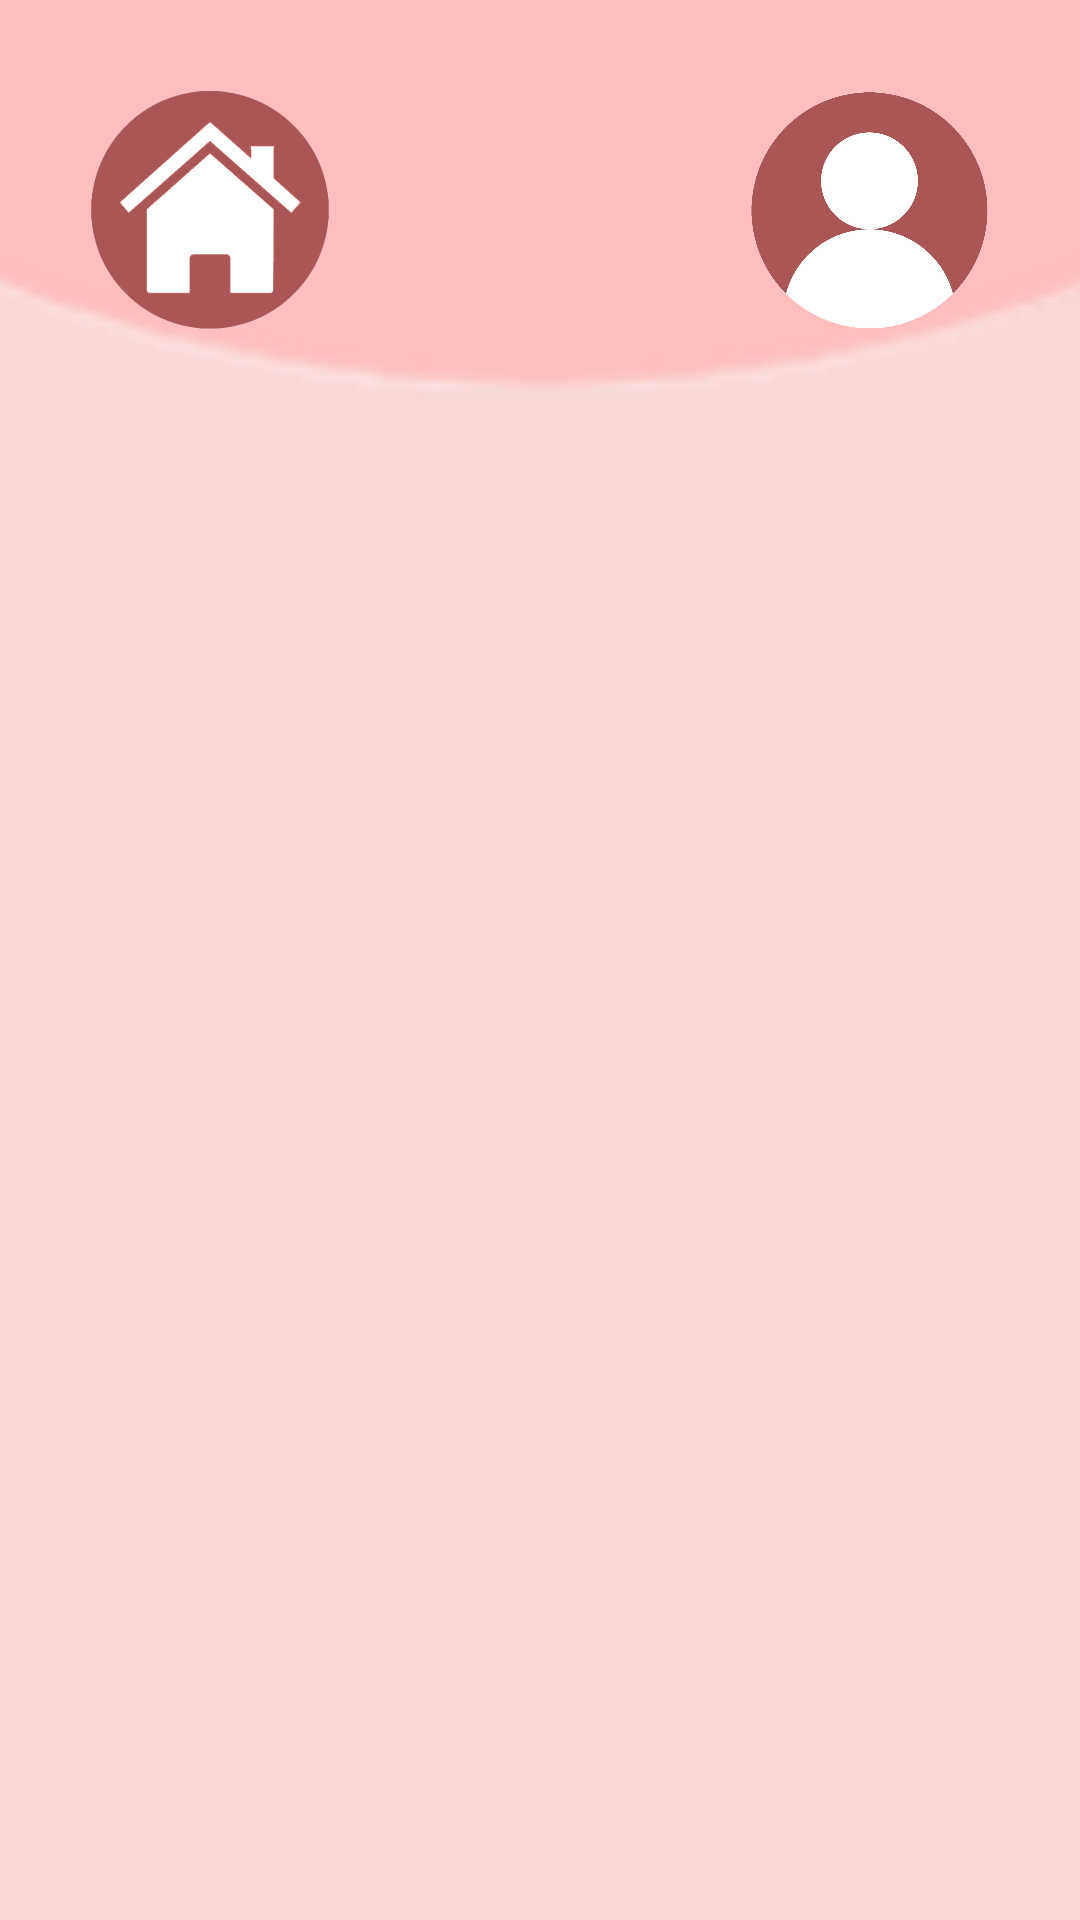

Locate icon controls on the screen. Image size 1080w x 1920h, boxes as {"x1": x1, "y1": y1, "x2": x2, "y2": y2}.
home: {"x1": 91, "y1": 91, "x2": 329, "y2": 329}
usuario: {"x1": 751, "y1": 92, "x2": 987, "y2": 328}
